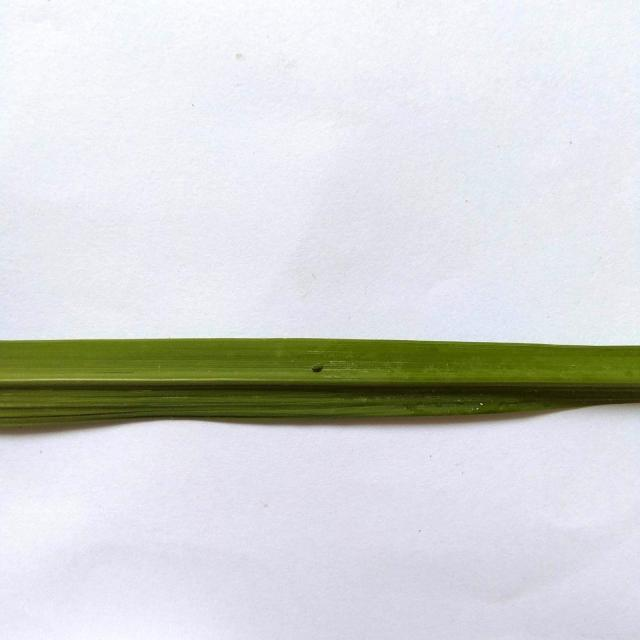healthy: (0, 263, 640, 451)
